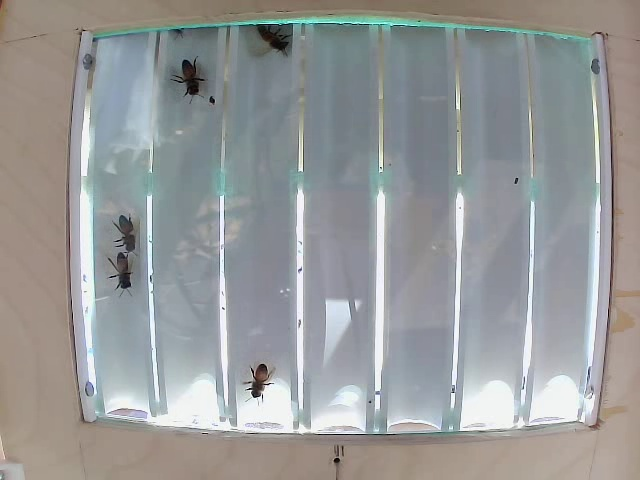bee: (240, 358, 287, 407), (177, 60, 215, 112), (108, 204, 142, 259), (110, 256, 138, 301)
